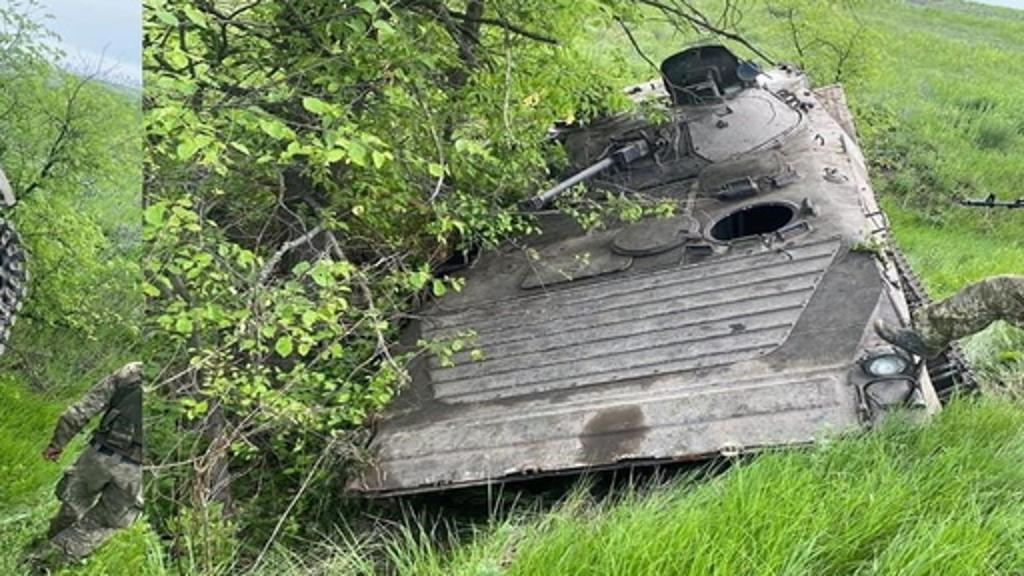APC-IFV: (318, 40, 944, 520)
